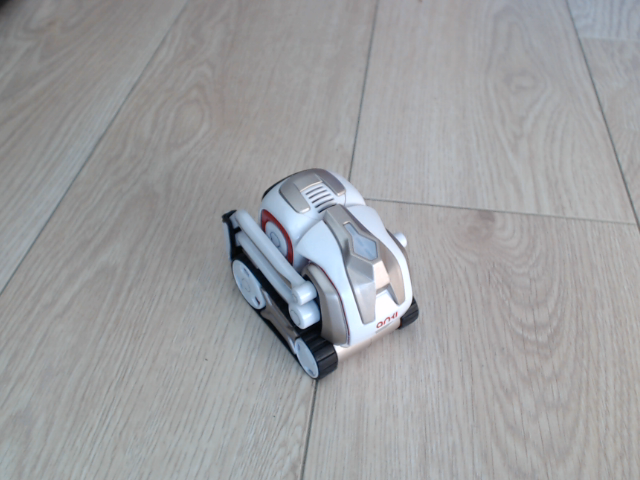cozmo: (218, 166, 425, 381)
